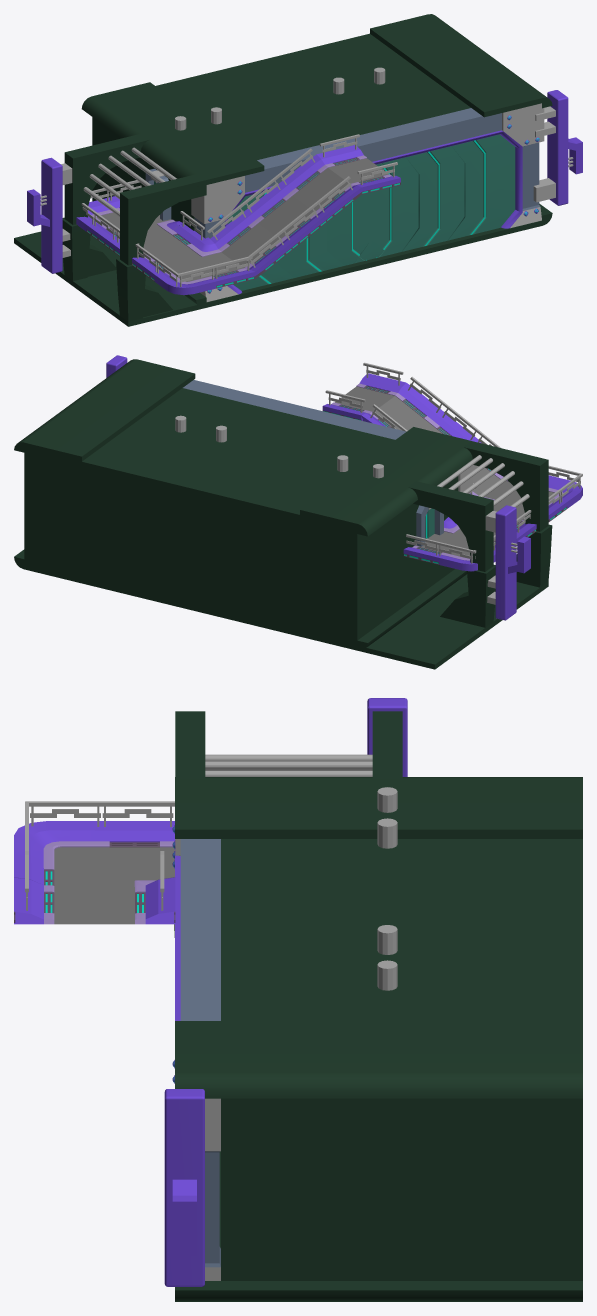
Rendered from Garage_DoorClosed_UV.fbx.
3 renders of one model, top to bottom at view 1: azimuth 30°, elevation 25°; view 2: azimuth 150°, elevation 25°; view 3: azimuth 270°, elevation 25°, orthographic. The views are drawn at different scales.
Parts seen in each view (by area): view 1: Garage_DoorClosed_UV; view 2: Garage_DoorClosed_UV; view 3: Garage_DoorClosed_UV.
Boxes of the visible parts, x1,y1,x2,y2 form: Garage_DoorClosed_UV: (14, 14, 582, 326); Garage_DoorClosed_UV: (14, 355, 582, 669); Garage_DoorClosed_UV: (14, 698, 582, 1301).
Bounding box in the file's own units: 25.2 × 7.31 × 14.14.
